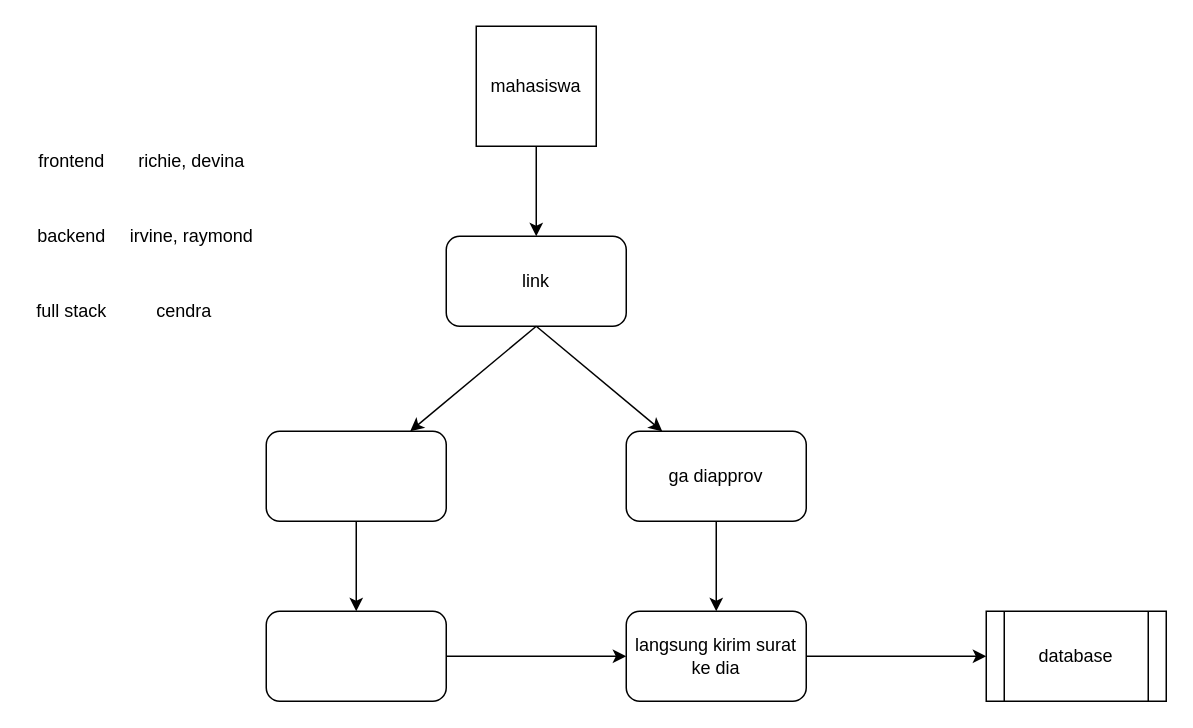
The diagram is 1193 pixels wide and 728 high, and some of its shapes have lost their labels. Each missing label, with the centre of its shape:
"harus approve" belongs at (x=355, y=475).
"kirim konfirmasi ke bu wiwi (gmail)" belongs at (x=355, y=655).
